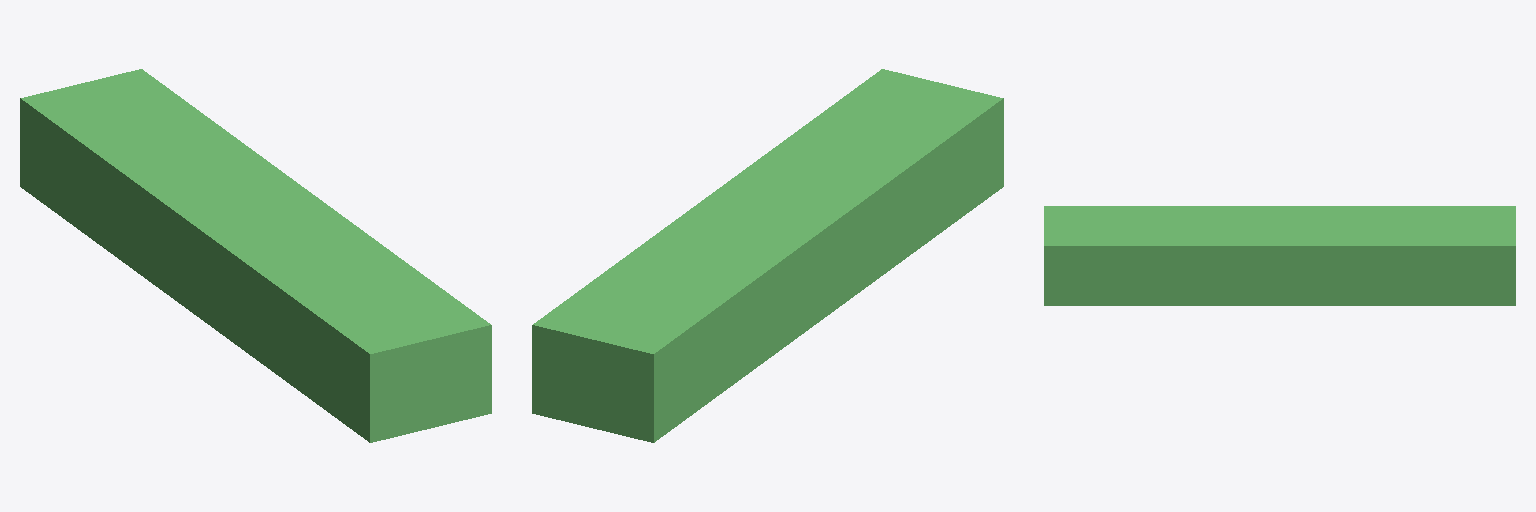
The robot description file, URDF, robot "potato":
<?xml version="1.0"?>
<robot name="potato">
  <link name="link0">
  <contact>
      <lateral_friction value="1"/>
  </contact>
    <inertial>
      <origin xyz="0 0 0" rpy="0 0 0" />
      <mass value="0.1" />
      <inertia ixx="1" ixy="0" ixz="0" iyy="1" iyz="0" izz="1" />
    </inertial>
    <visual>
      <origin xyz="0 0 0" rpy="0 0 0" />
      <!--<origin xyz="0 0 0" rpy="1.57 0 0" />--> <!-- For cylinder -->
      <geometry>
        <!--<box size="0.06 0.16 0.06" />--> <!-- Eggplant -->
        <box size="0.05 0.25 0.035" /> <!-- Banana-->
        <!--<box size="0.05 0.30 0.06" />--> <!-- Cucumber-->
        <!--<box size="0.05 0.25 0.06" />-->
        <!--<cylinder radius="0.0275" length="0.25"/>-->
      </geometry>
      <material name="green">
        <color rgba="0.5 0.8 0.5 1.0" />
      </material>
    </visual>
    <collision>
      <origin xyz="0 0 0" rpy="0 0 0" />
      <geometry>
        <box size="0.05 0.25 0.035" />
        <!--<cylinder radius="0.03" length="0.25" />-->
      </geometry>
    </collision>
  </link>
</robot>

--- Render facts (derived) ---
Views: 3 orthographic renders of the robot side by side, from view 1: azimuth 30°, elevation 25°; view 2: azimuth 150°, elevation 25°; view 3: azimuth 270°, elevation 25°.
Model potato with 1 links and 0 joints (none), rooted at link0, posed every joint at zero.
Visible links, largest first — view 1: link0; view 2: link0; view 3: link0.
Link boxes in pixels (x1,y1,x2,y2): link0: (20, 69, 491, 442); link0: (532, 69, 1003, 442); link0: (1044, 206, 1515, 305).
Size in the robot's own frame: 0.05 by 0.25 by 0.035 metres.
Geometry: primitives only (box / cylinder / sphere), no mesh files.
